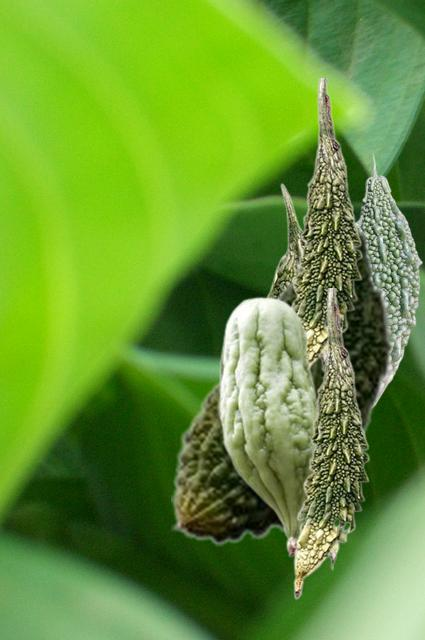ampalaya: (171, 221, 394, 545), (218, 296, 316, 556), (293, 288, 369, 599), (291, 78, 362, 372), (356, 153, 421, 398), (266, 182, 304, 296)
